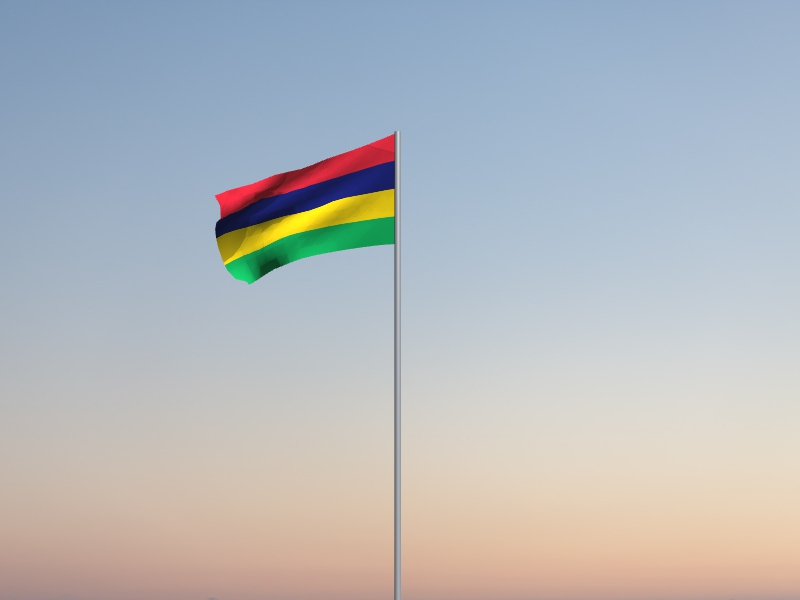mu: (213, 133, 395, 286)
